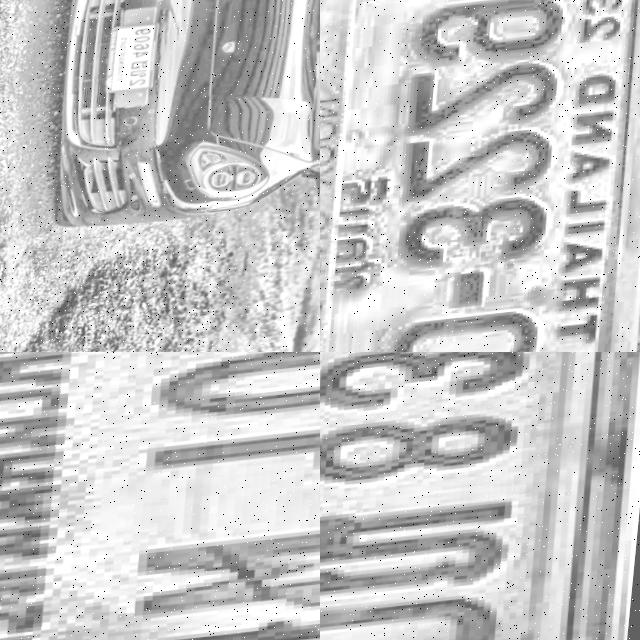license-plate: (320, 0, 640, 352), (0, 352, 320, 640), (320, 352, 628, 640), (111, 26, 165, 96)
